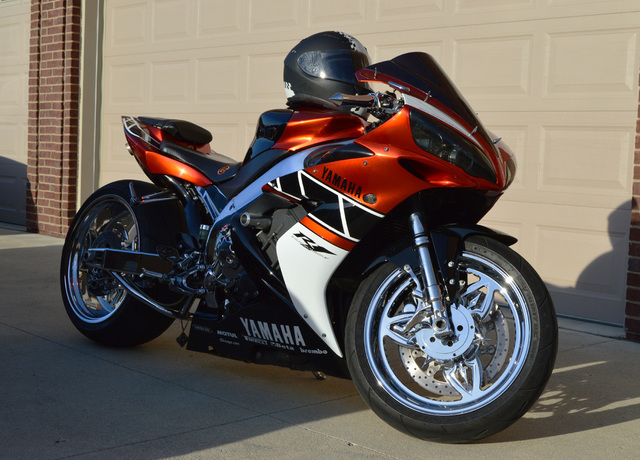helmet: (272, 37, 383, 106)
